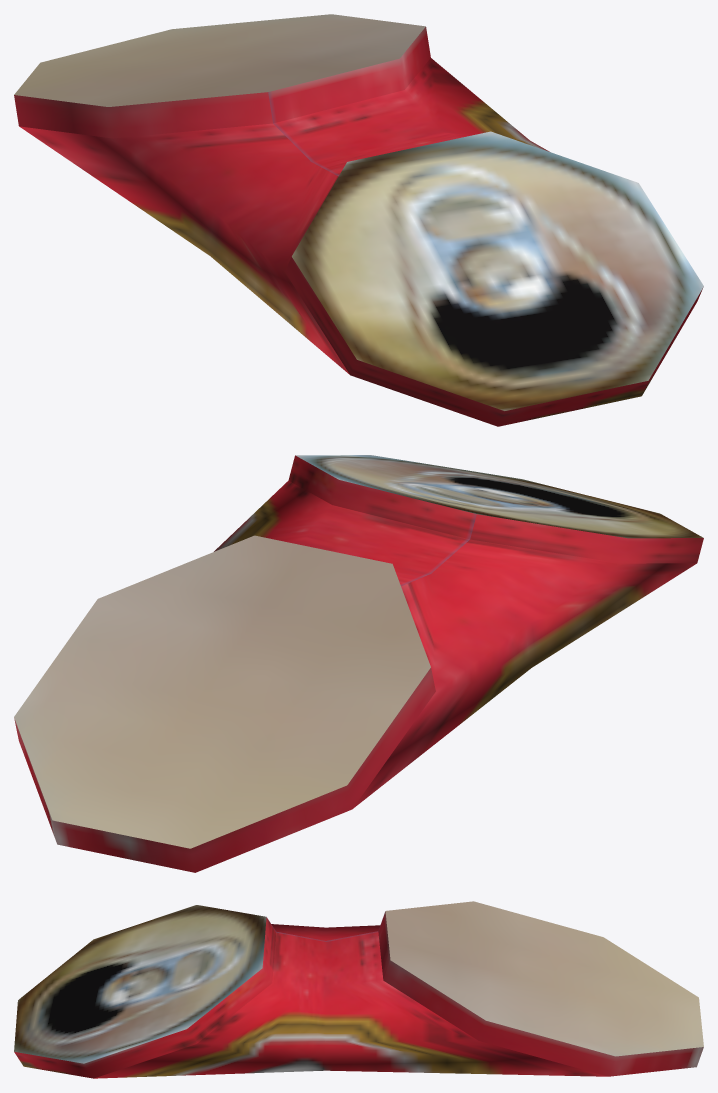
Rendered from Pivo2.fbx.
3 views of the same model, one above another, from view 1: azimuth 30°, elevation 25°; view 2: azimuth 150°, elevation 25°; view 3: azimuth 270°, elevation 25° (orthographic). The views are drawn at different scales.
Parts seen in each view (by area): view 1: Pivo2; view 2: Pivo2; view 3: Pivo2.
Part boxes in pixels (box(x1,y1,x2,y2)): Pivo2: box(14, 14, 703, 426); Pivo2: box(14, 455, 703, 872); Pivo2: box(14, 901, 703, 1078).
Bounding box in the file's own units: 9.45 × 4.04 × 22.43.
